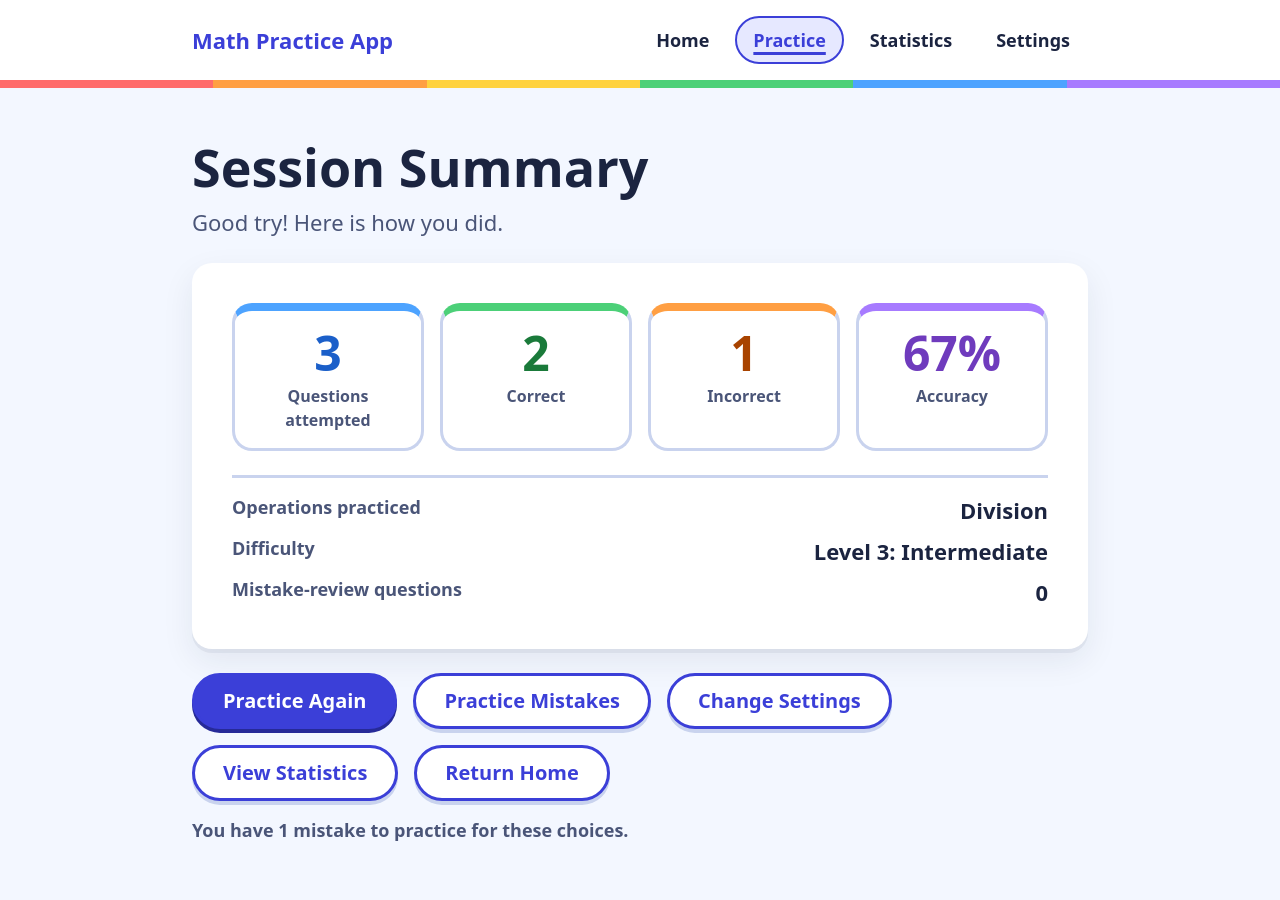
Test: SessionSummaryPage › actions › Practice Again › starts a new session with the same setup
The width and height of the screenshot is (1280, 900).
Click the button "Practice Again" at (295, 701), box x1=192 y1=673 x2=398 y2=729
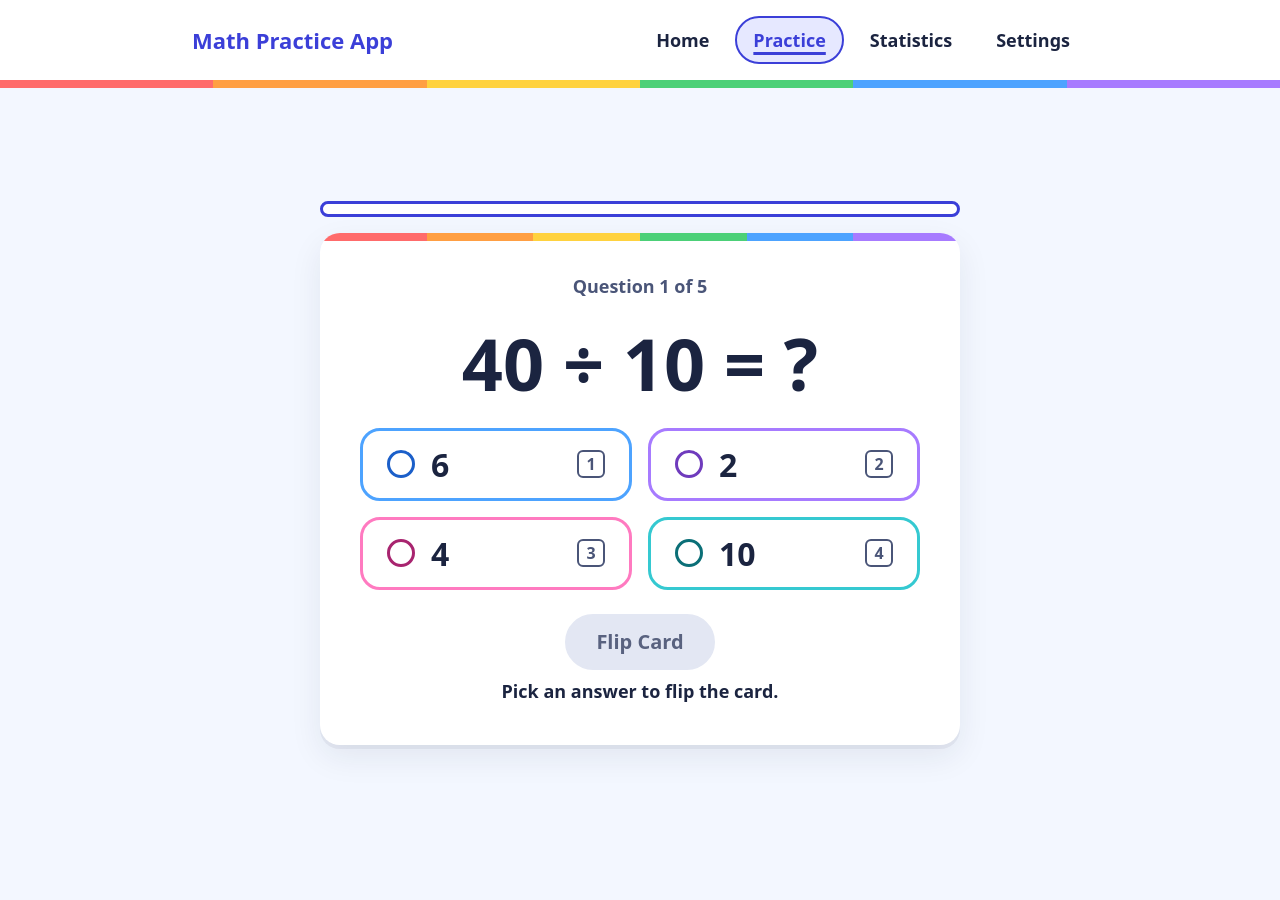
Now the text "Question 1 of 5" is shown, box x1=573 y1=273 x2=707 y2=300
Now the heading reads "40 ÷ 10 = ?", box x1=462 y1=324 x2=818 y2=404
